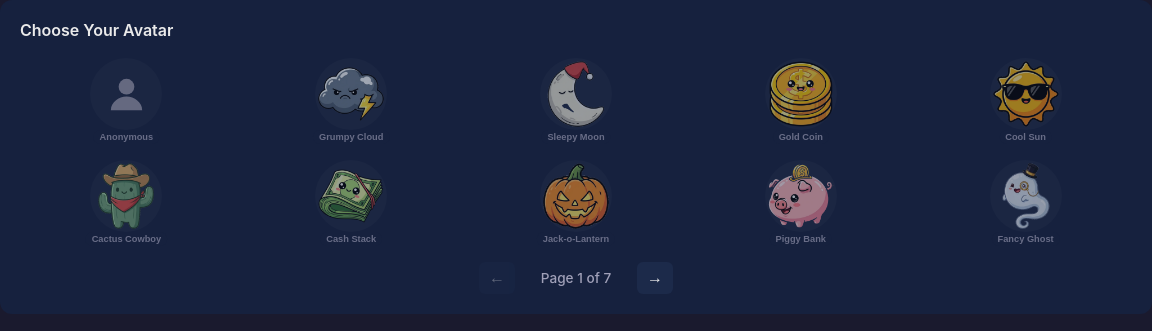
Scenario: AvatarPicker › pagination › returning to a previous page still works
The width and height of the screenshot is (1152, 331).
Step 1. Click the button named "Next avatar page" → (655, 278), box [637,262,673,294]
Wait 350 ms
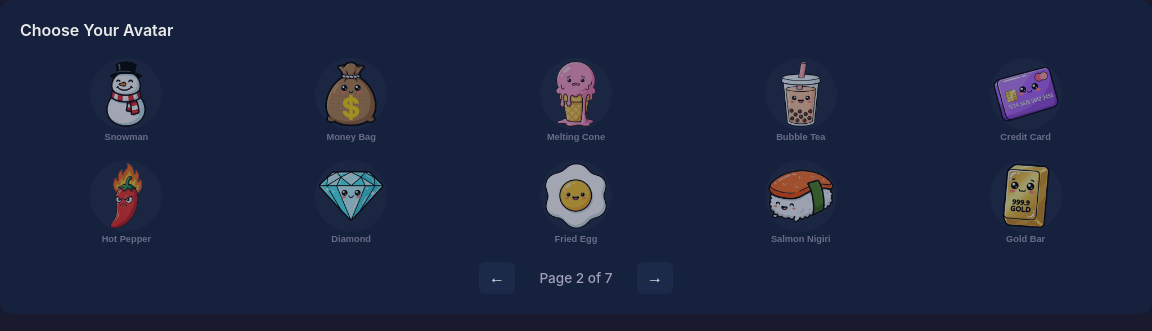
Step 2. Click the button named "Previous avatar page" → (497, 278), box [479,262,515,294]
Wait 350 ms
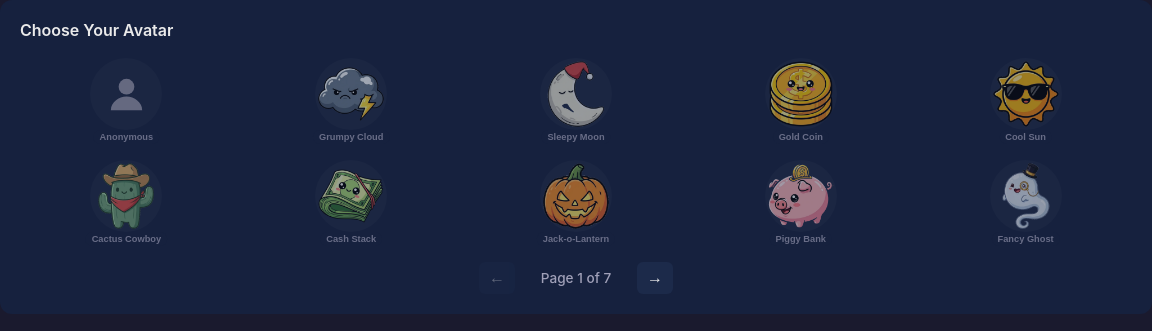
Expected: the button with aria-label "Select rain-cloud avatar" is shown, [245,58,458,130]
